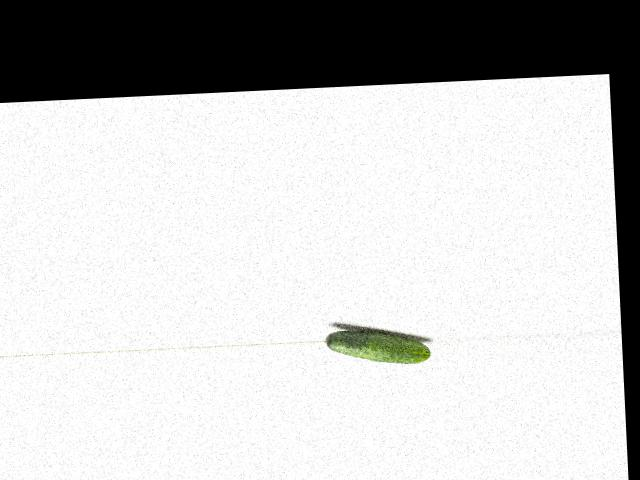cucumber: (323, 325, 430, 367)
